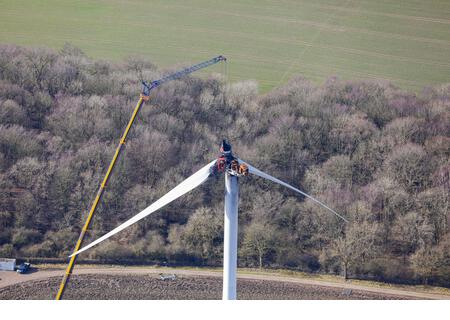faulty: (172, 135, 279, 265)
